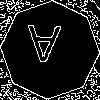A: (25, 25, 61, 72)
